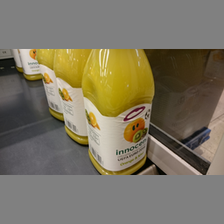juice: (82, 49, 156, 175), (54, 49, 90, 146)
